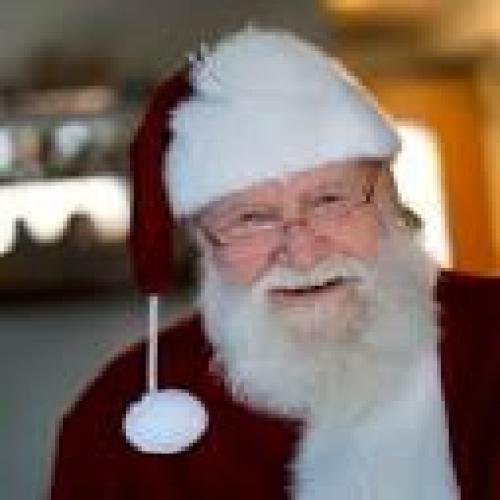Santa: (44, 24, 500, 500)
